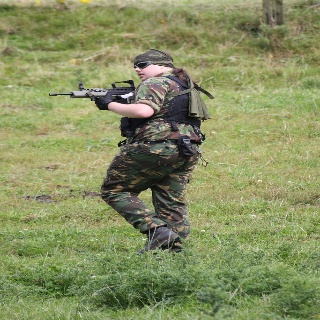rifle: (48, 79, 138, 112)
